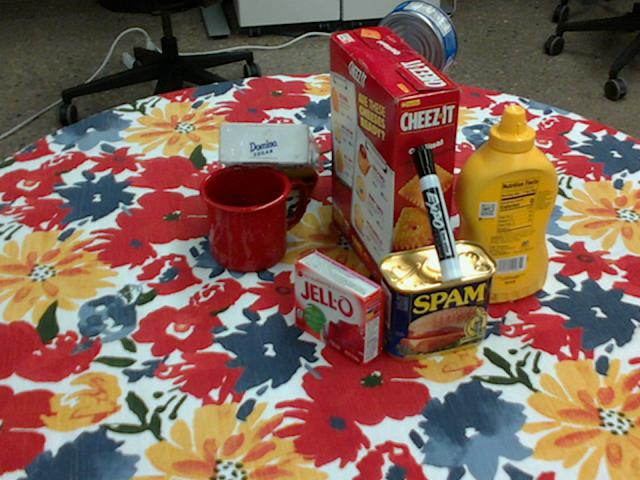cracker_box: (328, 28, 458, 298)
gelatin_box: (294, 249, 385, 364)
large_marker: (410, 144, 464, 281)
master_chef_can: (349, 60, 444, 212)
mug: (200, 163, 309, 271)
mustard_bottle: (448, 105, 558, 303)
potted_meat_can: (379, 240, 499, 361)
sugar_box: (220, 123, 319, 178)
tomato_soup_can: (467, 138, 541, 252)
tuna_fish_can: (371, 1, 455, 87)
